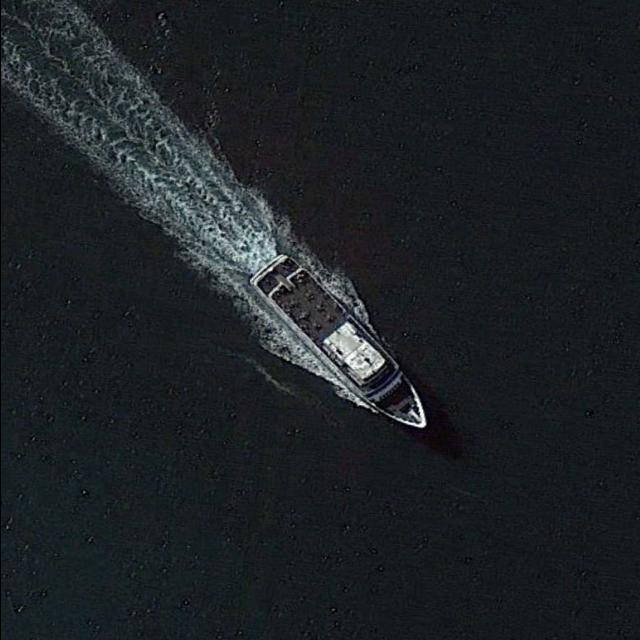ship: (251, 251, 428, 431)
